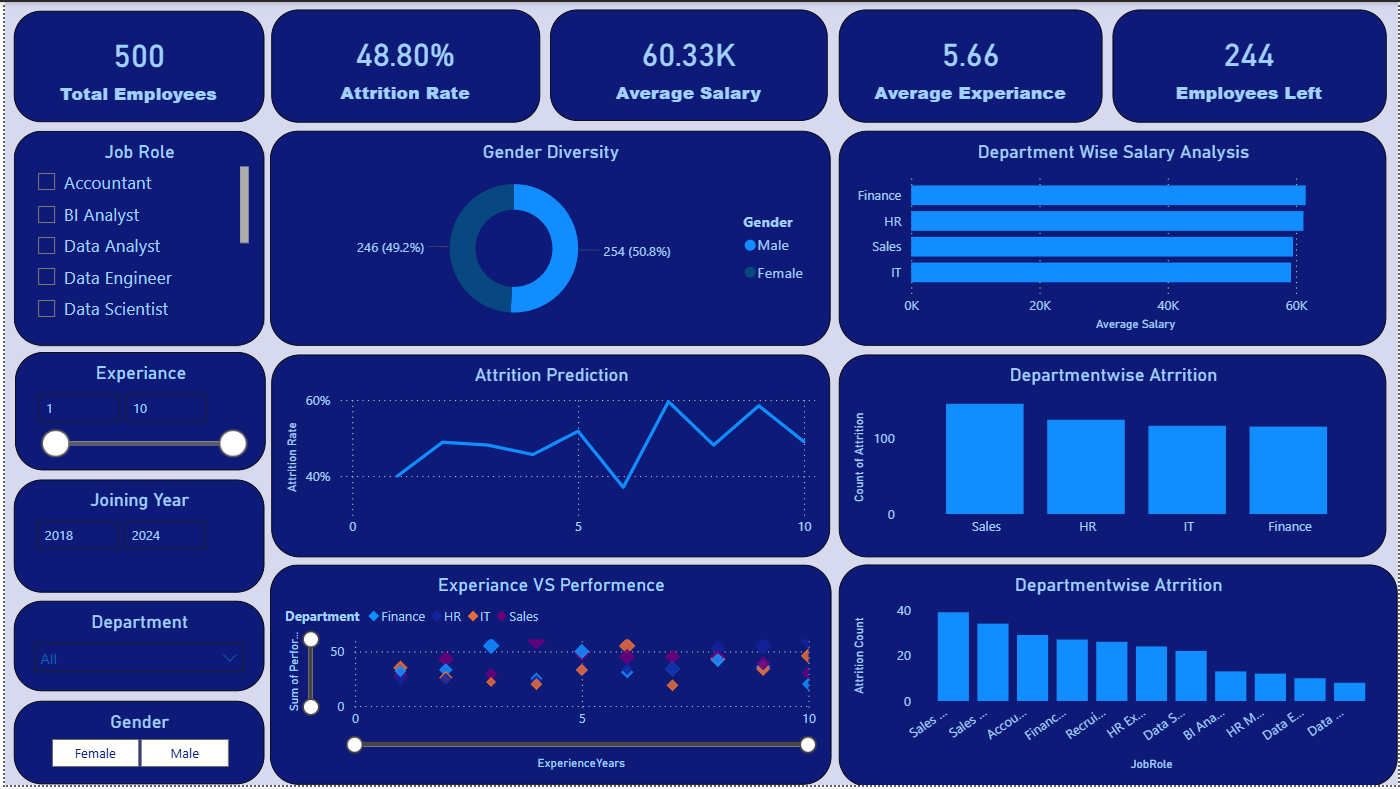

What the dashboard file says about the page in this screenshot:
{"tool":"powerbi","page":{"name":"Page 1","canvas":[1280,720],"ordinal":0},"visuals":[{"type":"card","fields":{"Values":["HR_Data.Attrition Rate"]},"box":[244.6,7.2,247,103.6],"z":0},{"type":"card","fields":{"Values":["HR_Data.Average Salary"]},"box":[501.2,7.2,255.4,102.4],"z":1000},{"type":"card","fields":{"Values":["HR_Data.Employees Left"]},"box":[1018.1,7.2,251.8,103.6],"z":2000},{"type":"card","fields":{"Values":["HR_Data.Total Employees"]},"box":[8.4,8.4,230.1,102.4],"z":3000},{"type":"donutChart","title":"Gender Diversity","fields":{"Y":["CountNonNull(HR_Data.EmpID)"],"Category":["HR_Data.Gender"]},"box":[243,118.6,515.1,197.7],"z":4000},{"type":"clusteredBarChart","title":"Department Wise Salary Analysis","fields":{"Category":["HR_Data.Department"],"Y":["HR_Data.Average Salary"]},"box":[766.3,118.6,503.5,197.7],"z":5000},{"type":"scatterChart","title":"Experiance VS Performence","fields":{"Y":["Sum(HR_Data.PerformanceRating)"],"X":["HR_Data.ExperienceYears"],"Size":["Sum(HR_Data.Salary)"],"Series":["HR_Data.Department"]},"box":[243.4,516.9,515.7,202.4],"z":6000},{"type":"columnChart","title":"Departmentwise Atrrition","fields":{"Category":["HR_Data.Department"],"Y":["CountNonNull(HR_Data.Attrition)"]},"box":[766.3,324.4,503.5,186],"z":7000},{"type":"lineChart","title":"Attrition Prediction","fields":{"Y":["HR_Data.Attrition Rate"],"Category":["HR_Data.ExperienceYears"]},"box":[244.2,324.4,514,186],"z":8000},{"type":"slicer","title":"Job Role","fields":{"Values":["HR_Data.JobRole"]},"box":[8.4,118.1,230.1,197.6],"z":9000},{"type":"slicer","title":"Department","fields":{"Values":["HR_Data.Department"]},"box":[8.4,550.6,230.1,83.1],"z":10000},{"type":"slicer","title":"Gender","fields":{"Values":["HR_Data.Gender"]},"box":[8.4,642.2,230.1,77.1],"z":11000},{"type":"slicer","title":"Joining Year","fields":{"Values":["HR_Data.JoiningYear"]},"box":[8.4,438.6,230.1,103.6],"z":12000},{"type":"card","fields":{"Values":["HR_Data.Average Experiance"]},"box":[766.3,7.2,242.2,103.6],"z":13000},{"type":"columnChart","title":"Departmentwise Atrrition","fields":{"Category":["HR_Data.JobRole"],"Y":["HR_Data.Attrition Count"]},"box":[766.3,516.9,513.3,203.6],"z":14000},{"type":"slicer","title":"Experiance","fields":{"Values":["HR_Data.ExperienceYears"]},"box":[9.6,321.7,230.1,108.4],"z":15000}]}

Visuals, with their boxes in screenshot pixels (x1, y1, x2, y2), scaled from the page's 1280x720 canvas onto the 1400x789 screenshot:
card - HR_Data.Attrition Rate: bbox=[268, 8, 538, 121]
card - HR_Data.Average Salary: bbox=[548, 8, 828, 120]
card - HR_Data.Employees Left: bbox=[1114, 8, 1389, 121]
card - HR_Data.Total Employees: bbox=[9, 9, 261, 121]
"Gender Diversity" donutChart: bbox=[266, 130, 829, 347]
"Department Wise Salary Analysis" clusteredBarChart: bbox=[838, 130, 1389, 347]
"Experiance VS Performence" scatterChart: bbox=[266, 566, 830, 788]
"Departmentwise Atrrition" columnChart: bbox=[838, 355, 1389, 559]
"Attrition Prediction" lineChart: bbox=[267, 355, 829, 559]
"Job Role" slicer: bbox=[9, 129, 261, 346]
"Department" slicer: bbox=[9, 603, 261, 694]
"Gender" slicer: bbox=[9, 704, 261, 788]
"Joining Year" slicer: bbox=[9, 481, 261, 594]
card - HR_Data.Average Experiance: bbox=[838, 8, 1103, 121]
"Departmentwise Atrrition" columnChart: bbox=[838, 566, 1399, 788]
"Experiance" slicer: bbox=[10, 353, 262, 471]
